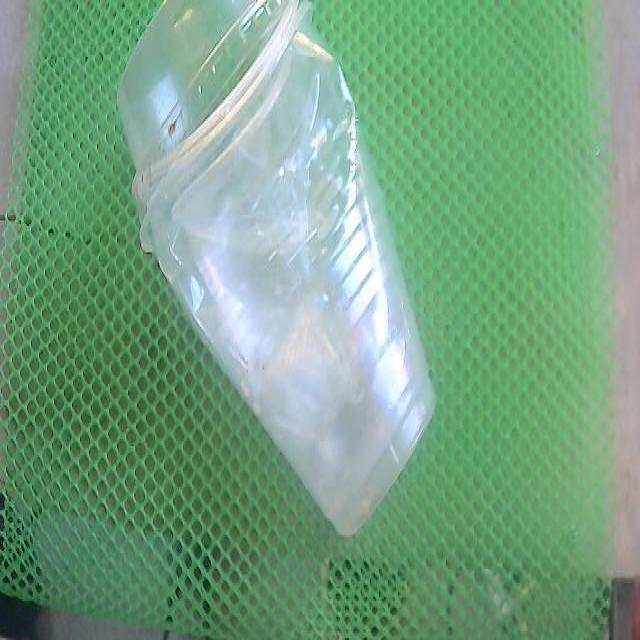bottle: (148, 31, 434, 534)
